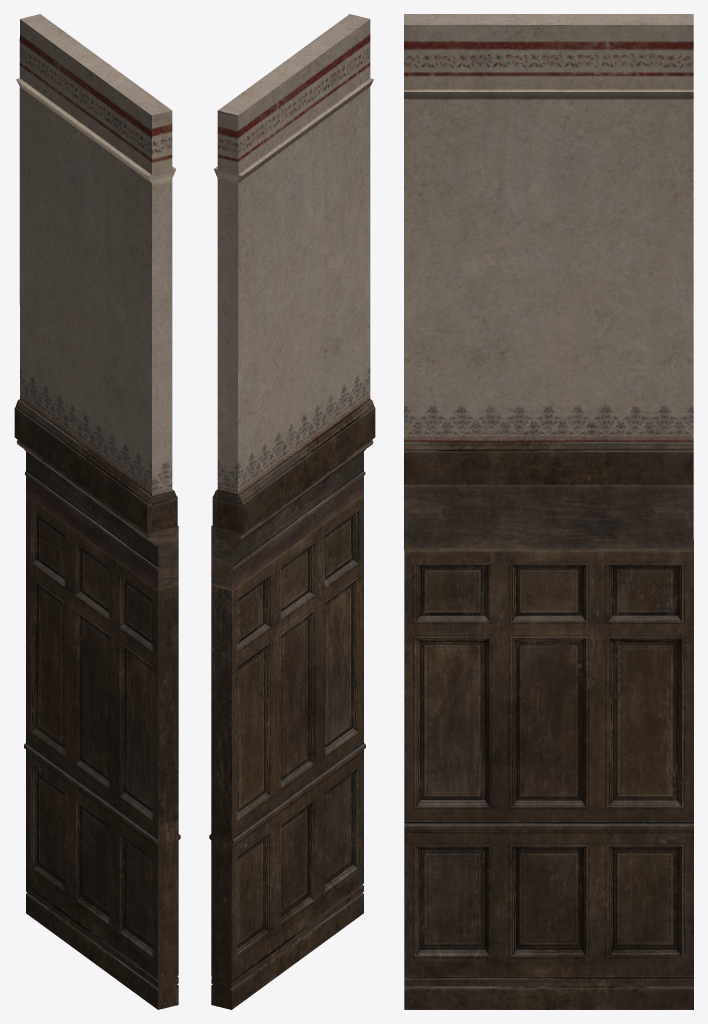
The model's file is Wall.fbx.
The picture shows the model from 3 angles, left to right: view 1: azimuth 30°, elevation 25°; view 2: azimuth 150°, elevation 25°; view 3: azimuth 270°, elevation 25°; orthographic projection. The views are drawn at different scales.
Visible parts, largest first — view 1: 4kWallCut1_LOD0; view 2: 4kWallCut1_LOD0; view 3: 4kWallCut1_LOD0.
Boxes of the visible parts, <box> form: 4kWallCut1_LOD0: <box>14,14,180,1009</box>; 4kWallCut1_LOD0: <box>209,14,375,1009</box>; 4kWallCut1_LOD0: <box>404,14,693,1009</box>.
Size of the model in its own units: 23.82 by 599 by 160.
